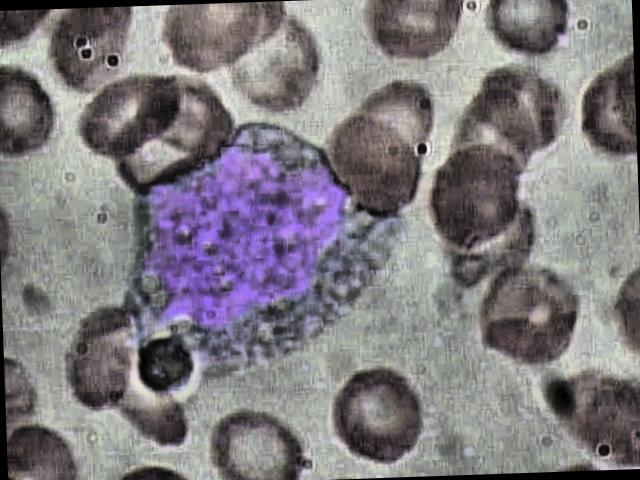RBC: (318, 110, 440, 224), (320, 355, 434, 469), (471, 261, 585, 375), (68, 62, 189, 164), (422, 145, 526, 256), (60, 308, 144, 420), (209, 408, 310, 480), (483, 0, 571, 61)
WBC: (106, 115, 424, 382)
